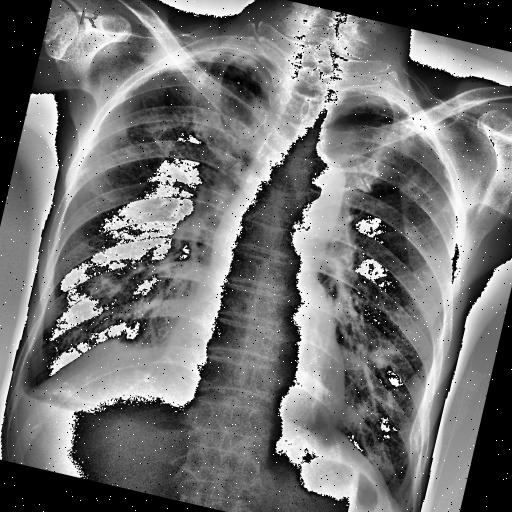10- Pleural effusion: (0, 370, 47, 423), (0, 364, 52, 409)
11- Pleural thickening: (128, 18, 270, 95), (346, 88, 458, 164), (343, 82, 440, 133), (170, 38, 258, 88), (0, 370, 47, 423), (0, 364, 52, 409), (85, 324, 134, 368), (200, 40, 260, 72), (8, 378, 38, 419)
13- Pulmonary fibrosis: (347, 99, 409, 159), (226, 60, 262, 102)
9- Other lesion: (402, 412, 436, 476)
